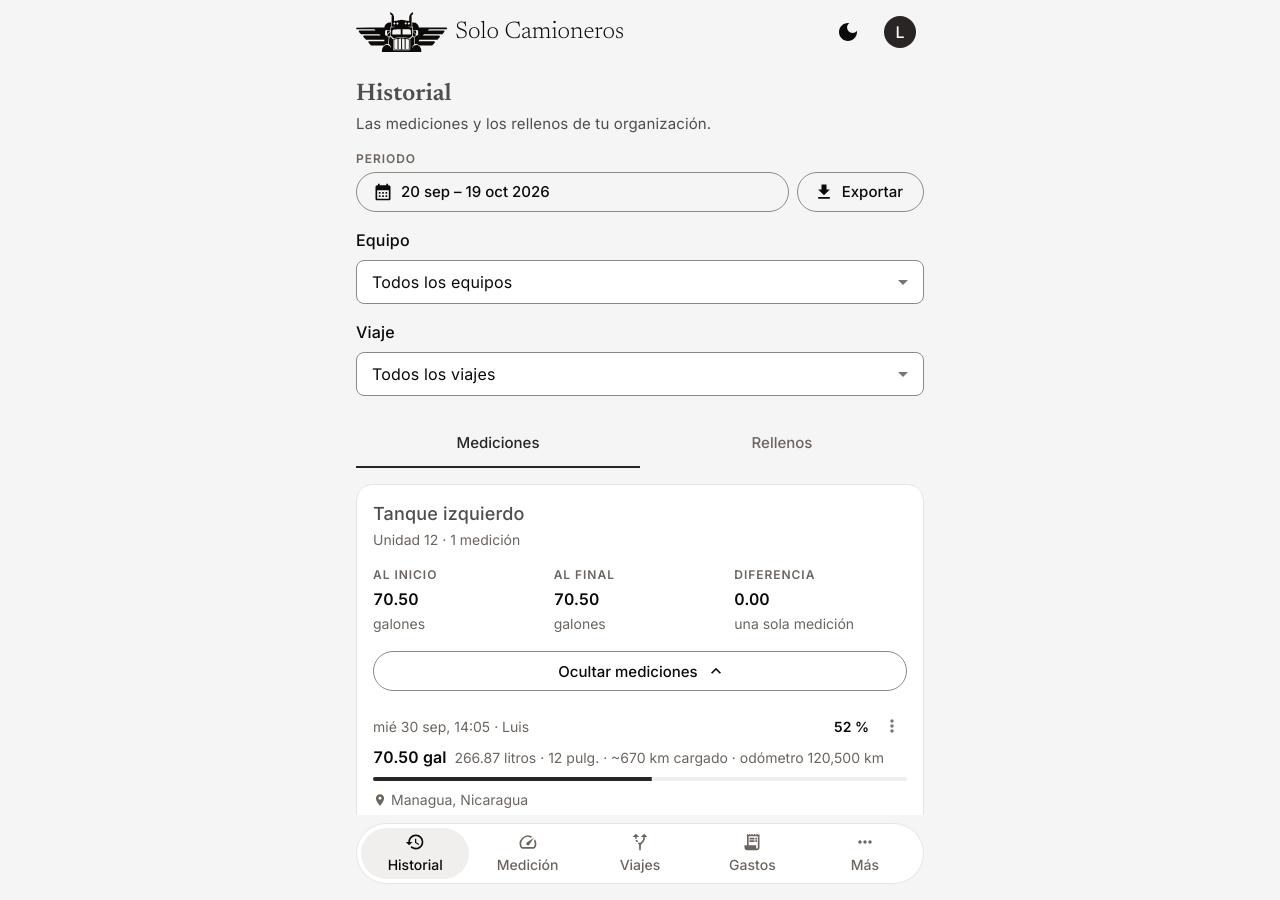
Test: deleting asks first, then removes the measurement (RF-13)
Click the button named "Opciones" at {"x": 892, "y": 726}, box 877,711 -> 907,741
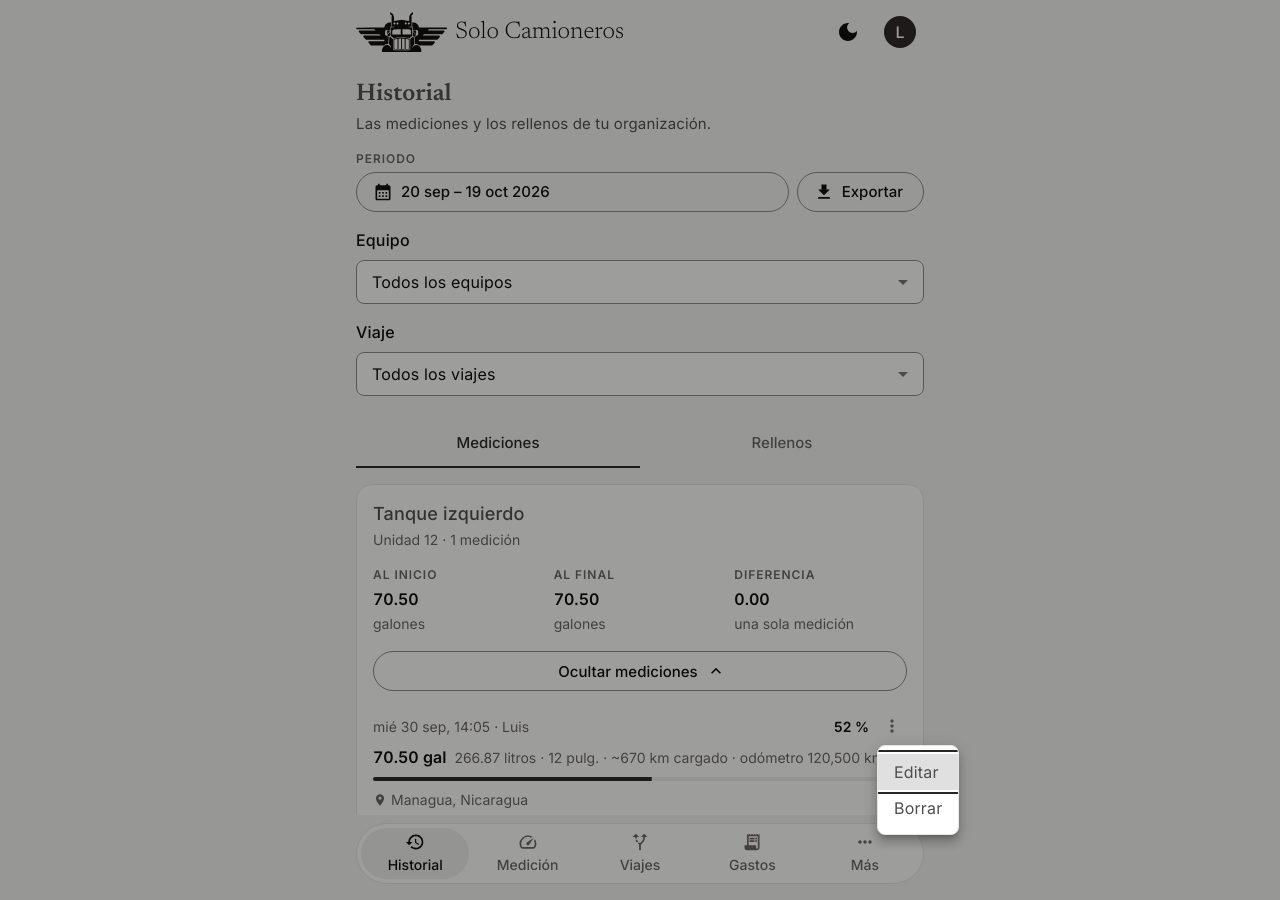
Click the menu item "Borrar" at {"x": 918, "y": 808}, box 894,798 -> 942,818
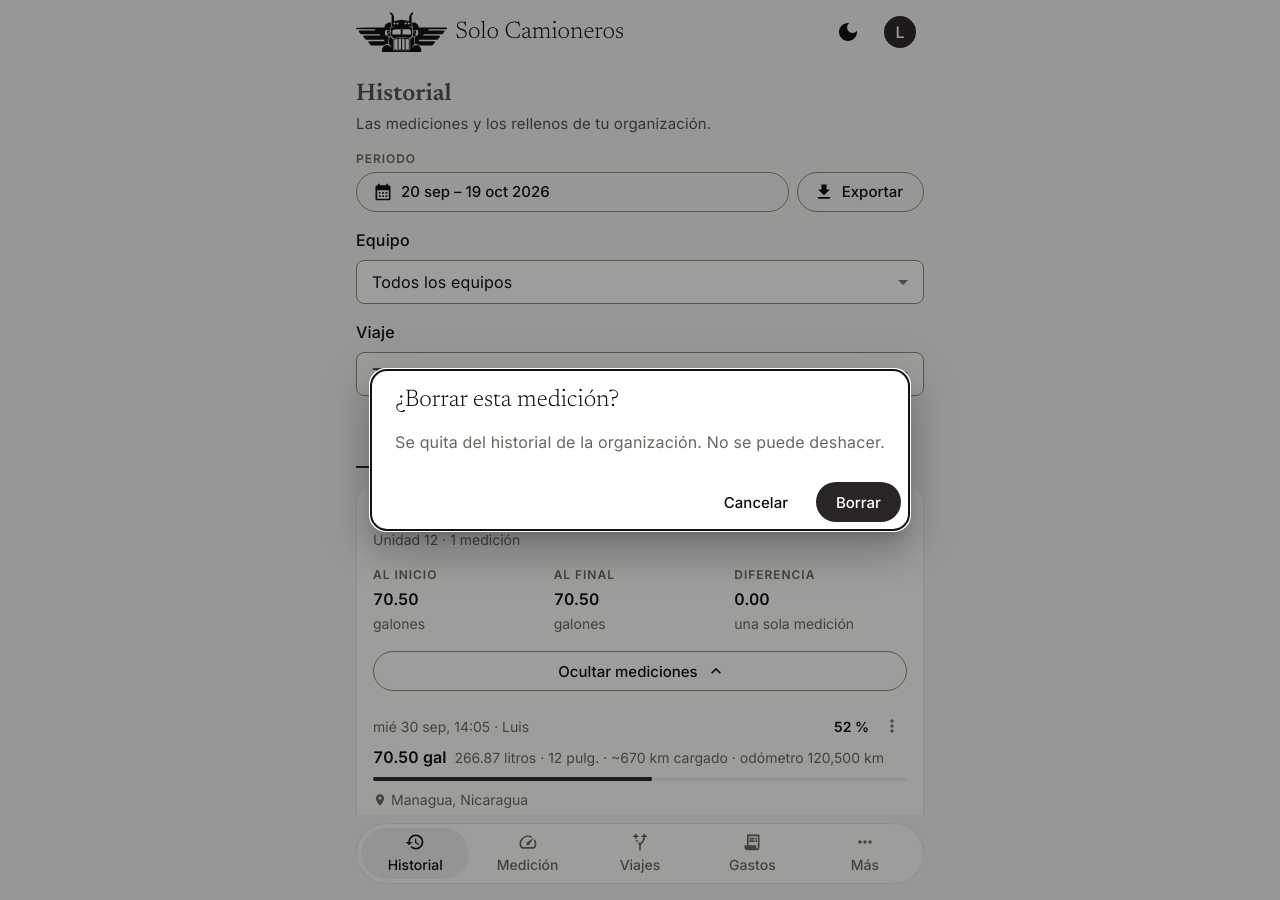
Click the button "Borrar" at {"x": 858, "y": 502}, box 816,482 -> 901,522
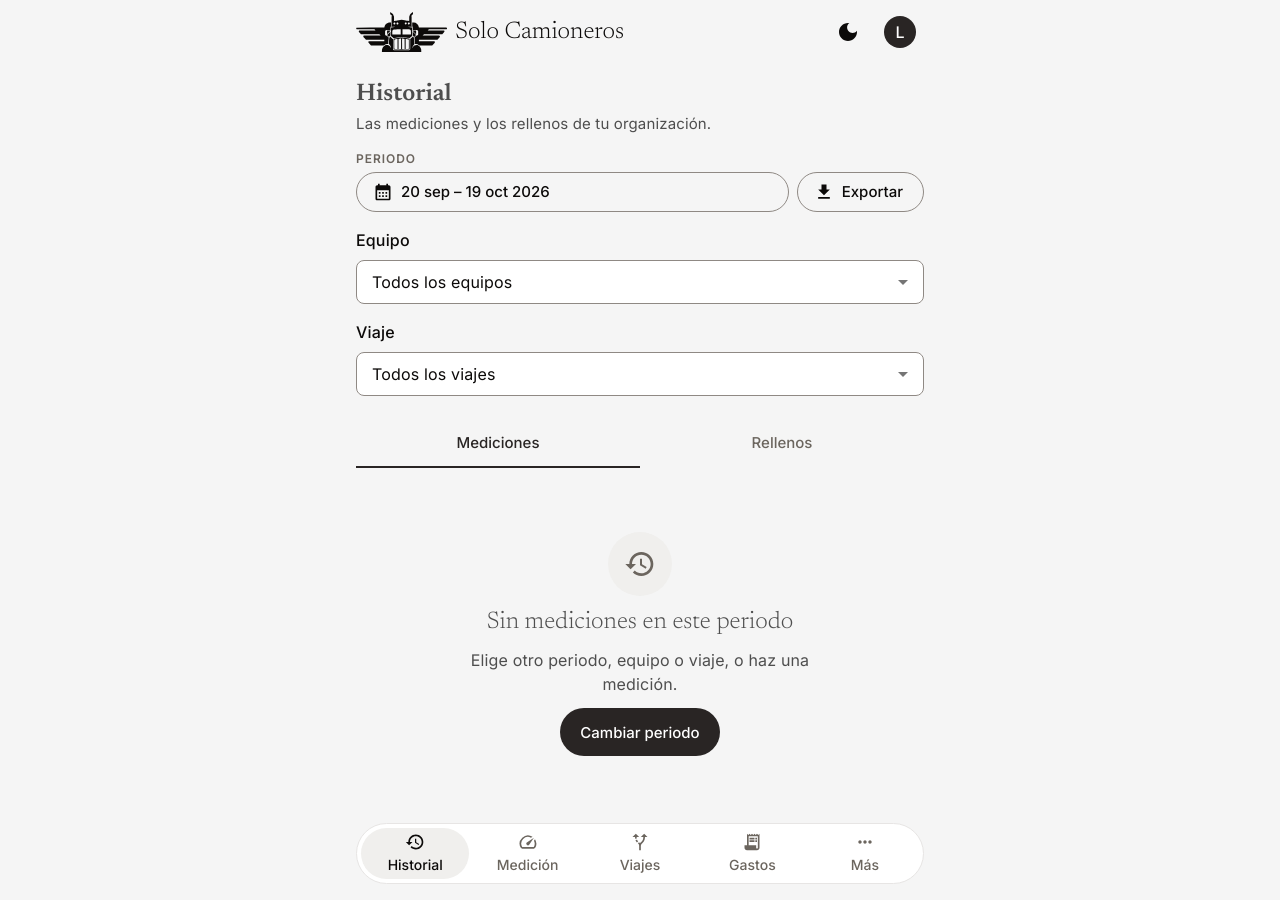
Now the heading "Sin mediciones en este periodo" is shown, box 487,608 -> 793,636
